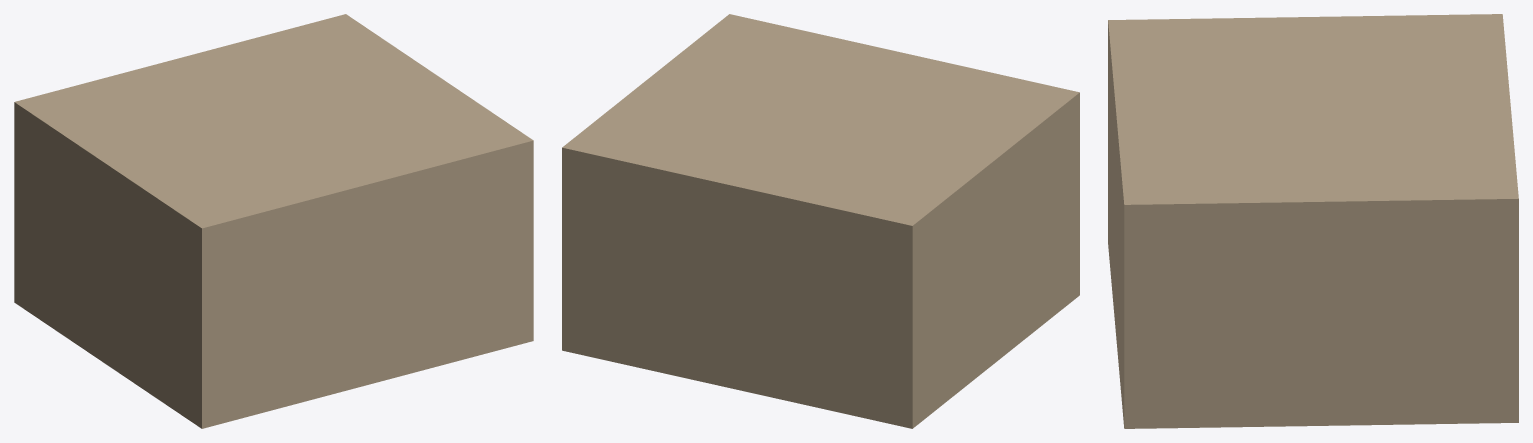
The model's file is bld_99867770.dae.
3 renders of one model, left to right at view 1: azimuth 30°, elevation 25°; view 2: azimuth 150°, elevation 25°; view 3: azimuth 270°, elevation 25°, orthographic. The views are drawn at different scales.
Parts seen in each view (by area): view 1: bld_99867770; view 2: bld_99867770; view 3: bld_99867770.
Part boxes in pixels (x1,y1,x2,y2): bld_99867770: (14, 14, 533, 428); bld_99867770: (562, 14, 1079, 428); bld_99867770: (1108, 14, 1518, 428).
Bounding box in the file's own units: 14.62 × 13.29 × 8.
